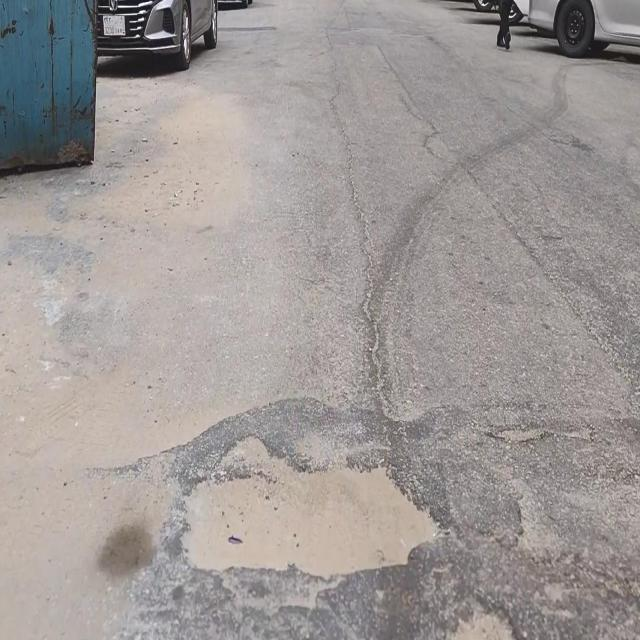Potholes: (178, 429, 442, 585)
